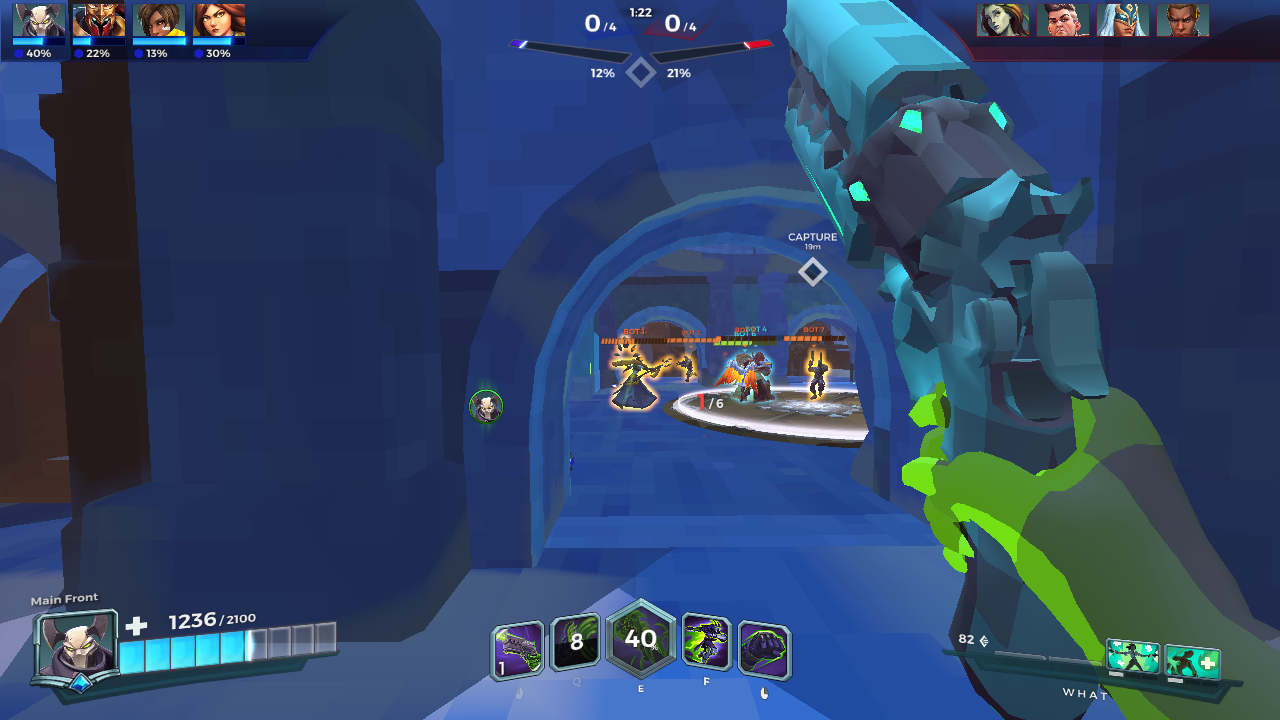model: (619, 348, 652, 414), (802, 349, 831, 404), (676, 351, 700, 389)
